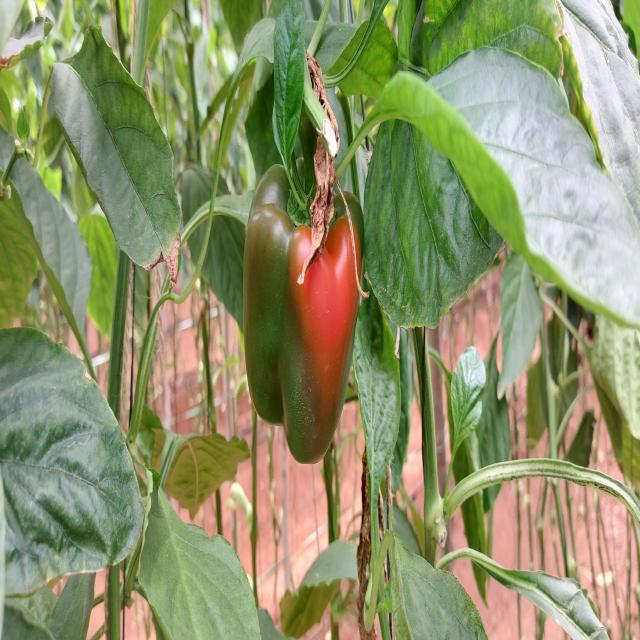BrownishRed--Can-be-Harvested: (251, 178, 362, 464)
